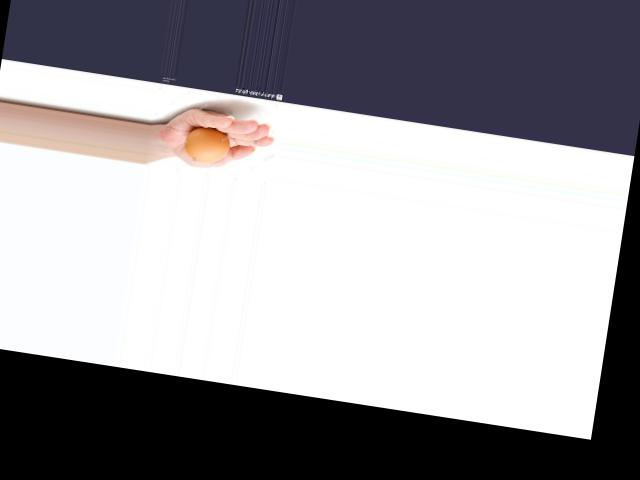egg: (181, 124, 231, 166)
